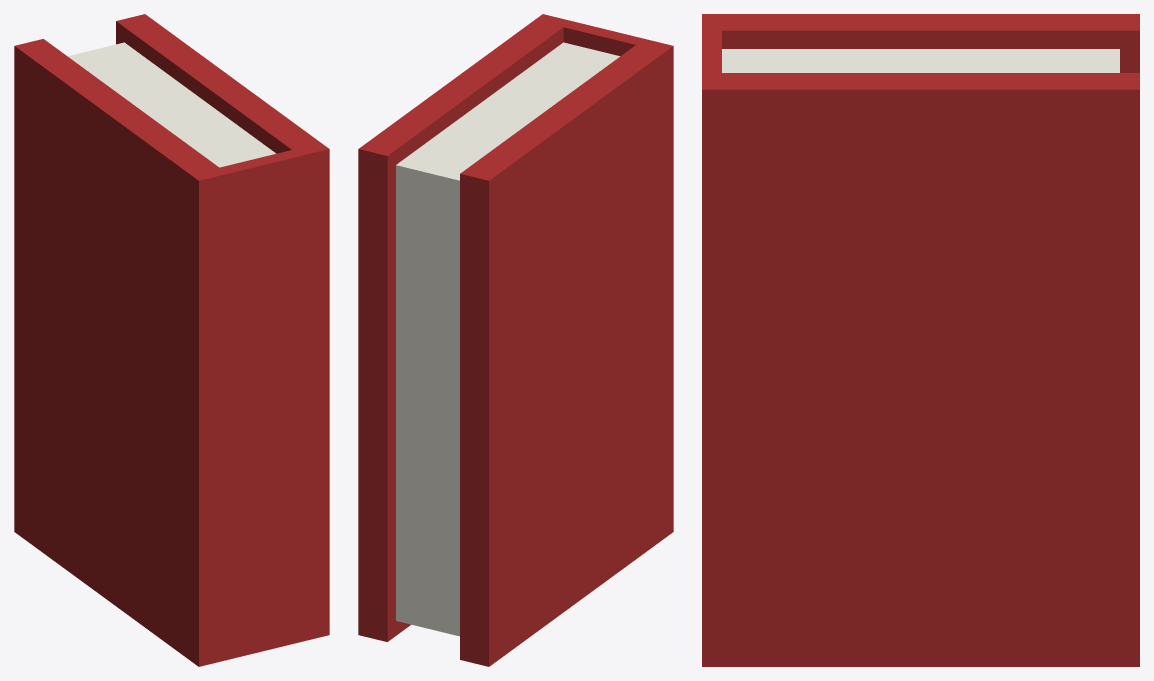
Rendered from Book_Red_Normal.fbx.
3 renders of one model, left to right at view 1: azimuth 30°, elevation 25°; view 2: azimuth 150°, elevation 25°; view 3: azimuth 270°, elevation 25°, orthographic. The views are drawn at different scales.
Visible parts, largest first — view 1: pCube9; view 2: pCube9; view 3: pCube9.
Boxes of the visible parts, x1=… form: pCube9: x1=14, y1=14, x2=329, y2=666; pCube9: x1=358, y1=14, x2=673, y2=666; pCube9: x1=702, y1=14, x2=1139, y2=666.
Bounding box in the file's own units: 9 × 32 × 22.
